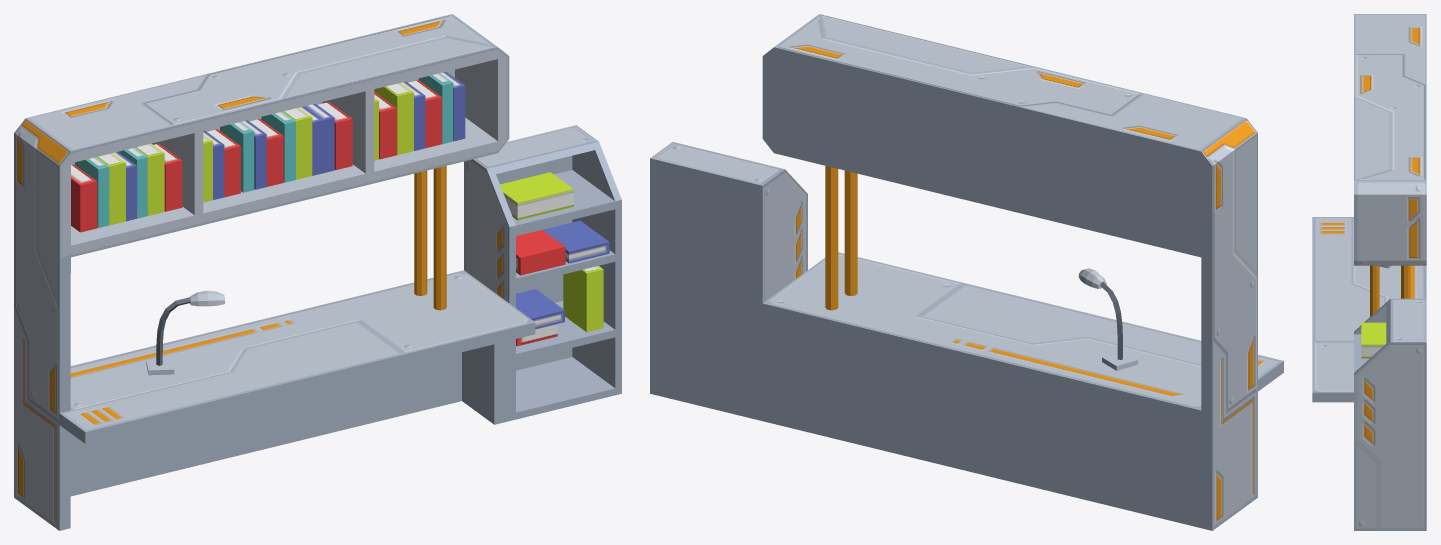
The model's file is Book_Shelf.dae.
The picture shows the model from 3 angles, left to right: view 1: azimuth 30°, elevation 25°; view 2: azimuth 150°, elevation 25°; view 3: azimuth 270°, elevation 25°; orthographic projection. The views are drawn at different scales.
Visible parts, largest first — view 1: Cube.001, Cube.024, Cube.002, Cube.022, Cube.021, Cube.023; view 2: Cube.001, Cube.002; view 3: Cube.001.
Boxes of the visible parts, bbox=[...] form: Cube.001: bbox=[14, 14, 621, 530]; Cube.024: bbox=[71, 164, 97, 232]; Cube.002: bbox=[146, 290, 224, 375]; Cube.022: bbox=[96, 153, 125, 225]; Cube.021: bbox=[75, 157, 109, 227]; Cube.023: bbox=[113, 152, 137, 221]; Cube.001: bbox=[650, 14, 1283, 530]; Cube.002: bbox=[1078, 268, 1137, 370]; Cube.001: bbox=[1312, 14, 1426, 530].
Size of the model in its own units: 4.04 by 0.8878 by 2.58.
